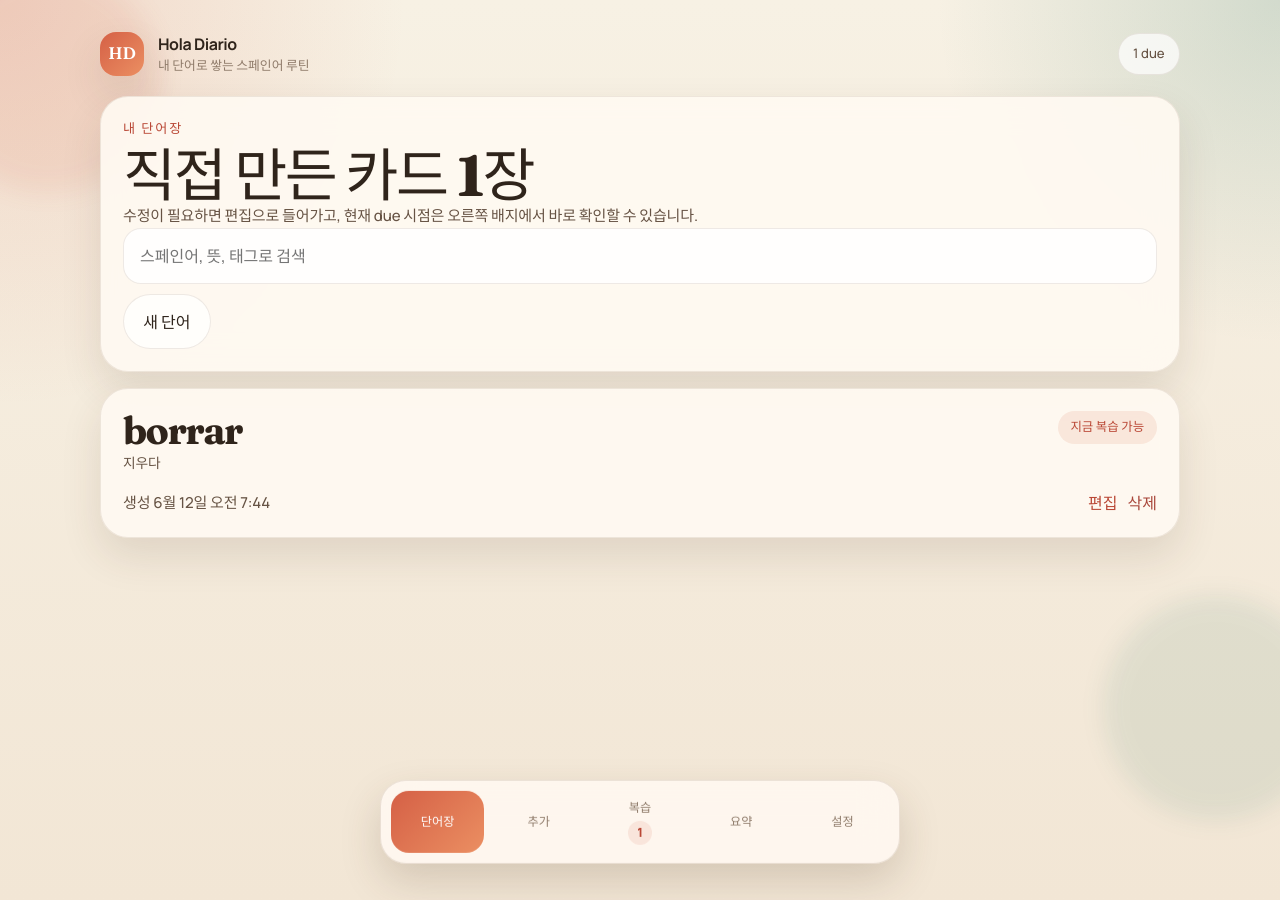
Hola Diario › deletes a card from the deck after confirmation
Expected: the heading "borrar" is shown, top-left (123, 411), bottom-right (242, 450)
Click the button "삭제".
click(1142, 503)  # box top-left (1128, 491), bottom-right (1157, 515)
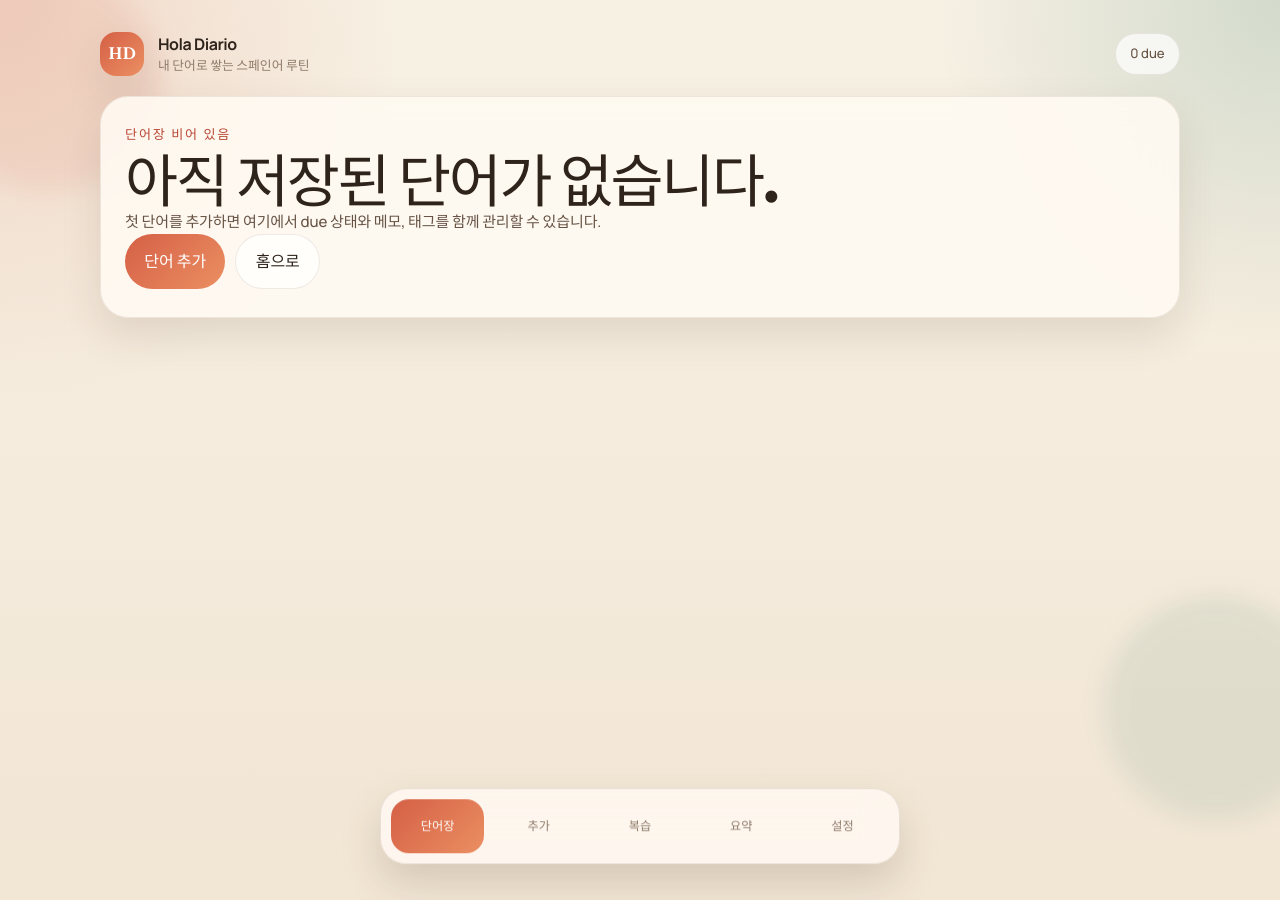
Expected: the heading "borrar" is gone
